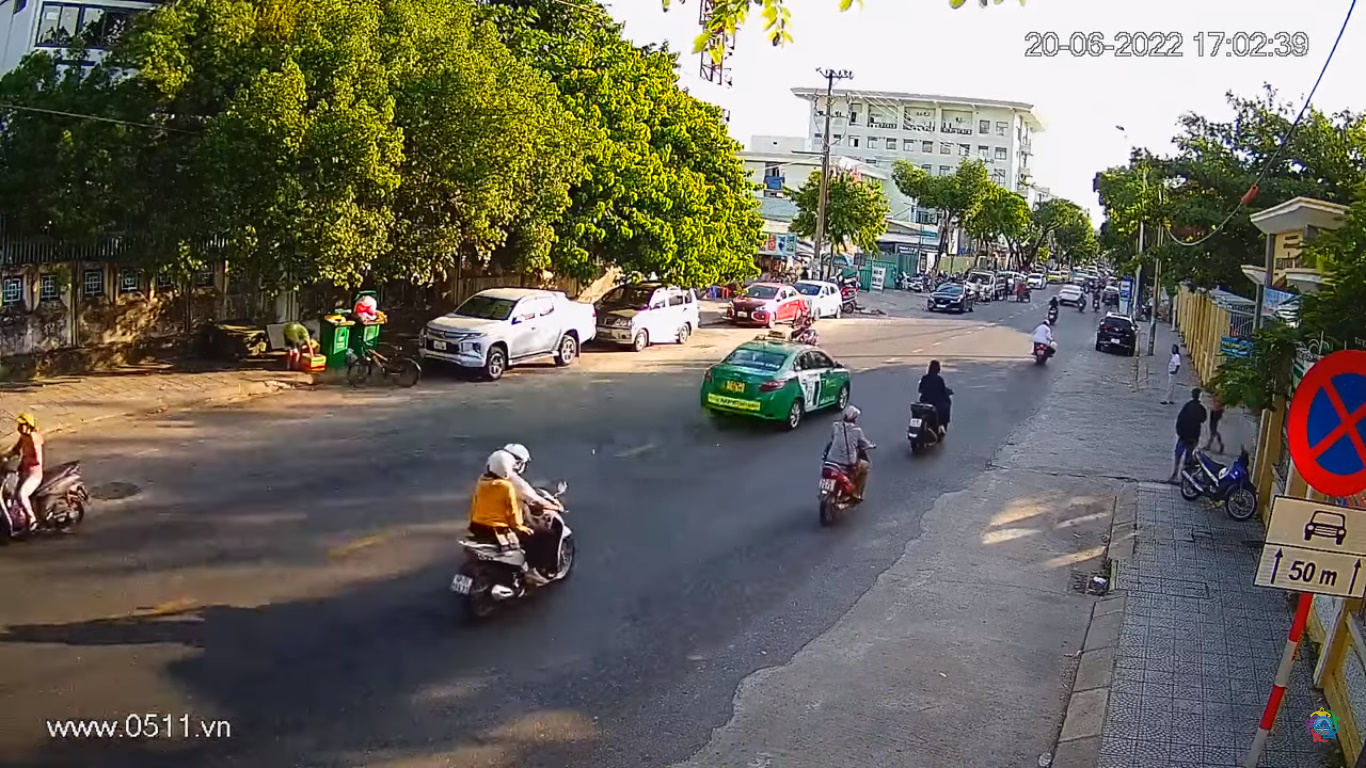car: (699, 335, 856, 433)
